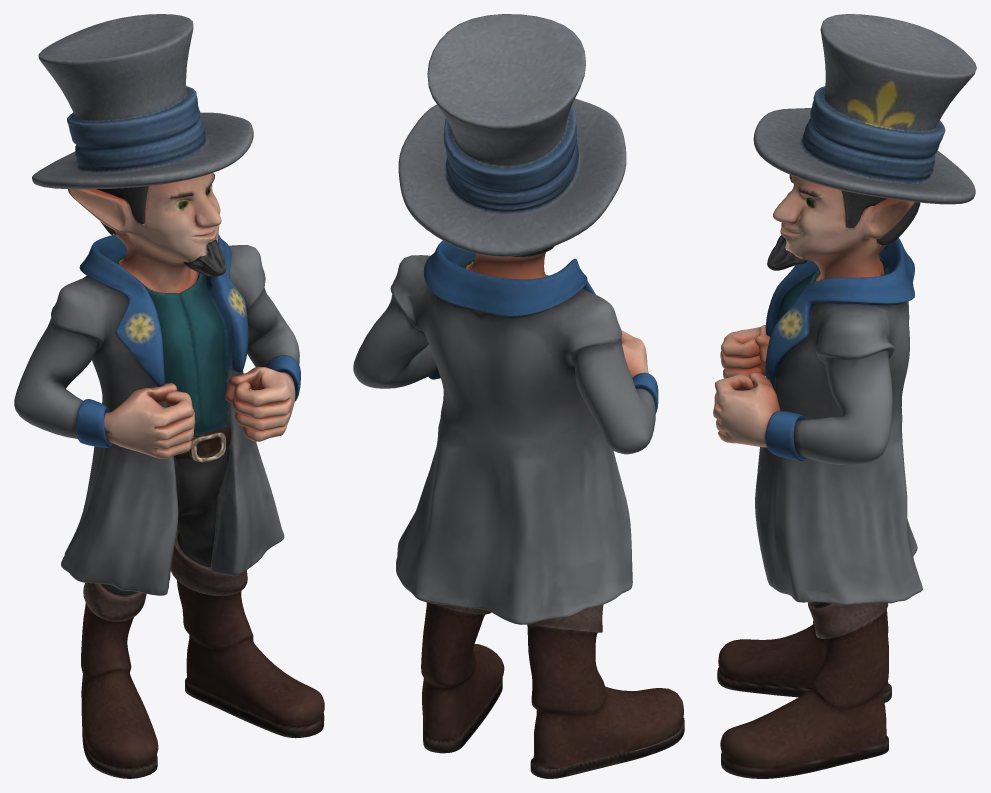
The model's file is MZ4250 - Gnome Merchant with Big Hat.glb.
3 views of the same model, side by side, from view 1: azimuth 30°, elevation 25°; view 2: azimuth 150°, elevation 25°; view 3: azimuth 270°, elevation 25° (orthographic). The views are drawn at different scales.
Parts seen in each view (by area): view 1: Cylinder.001; view 2: Cylinder.001; view 3: Cylinder.001.
Boxes of the visible parts, x1,y1,x2,y2 form: Cylinder.001: [14, 14, 324, 778]; Cylinder.001: [353, 14, 684, 778]; Cylinder.001: [713, 14, 976, 778].
Size of the model in its own units: 0.3101 by 0.7446 by 0.2594.
1 material, 1 textured.
